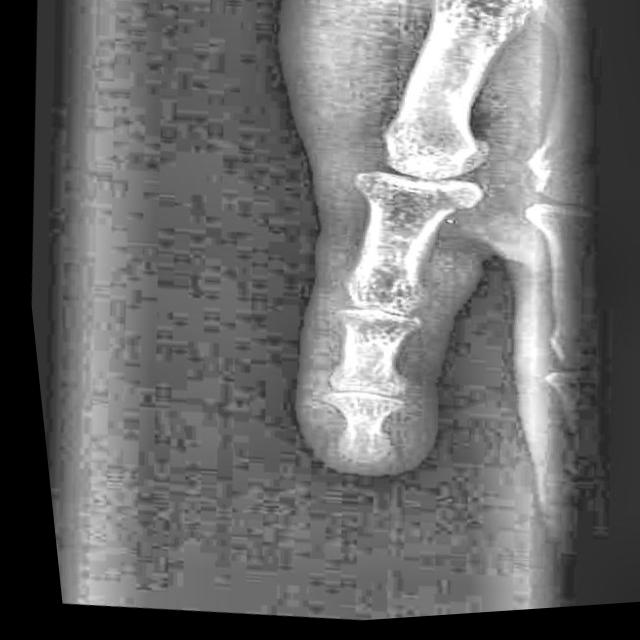fracture: (411, 180, 471, 222)
